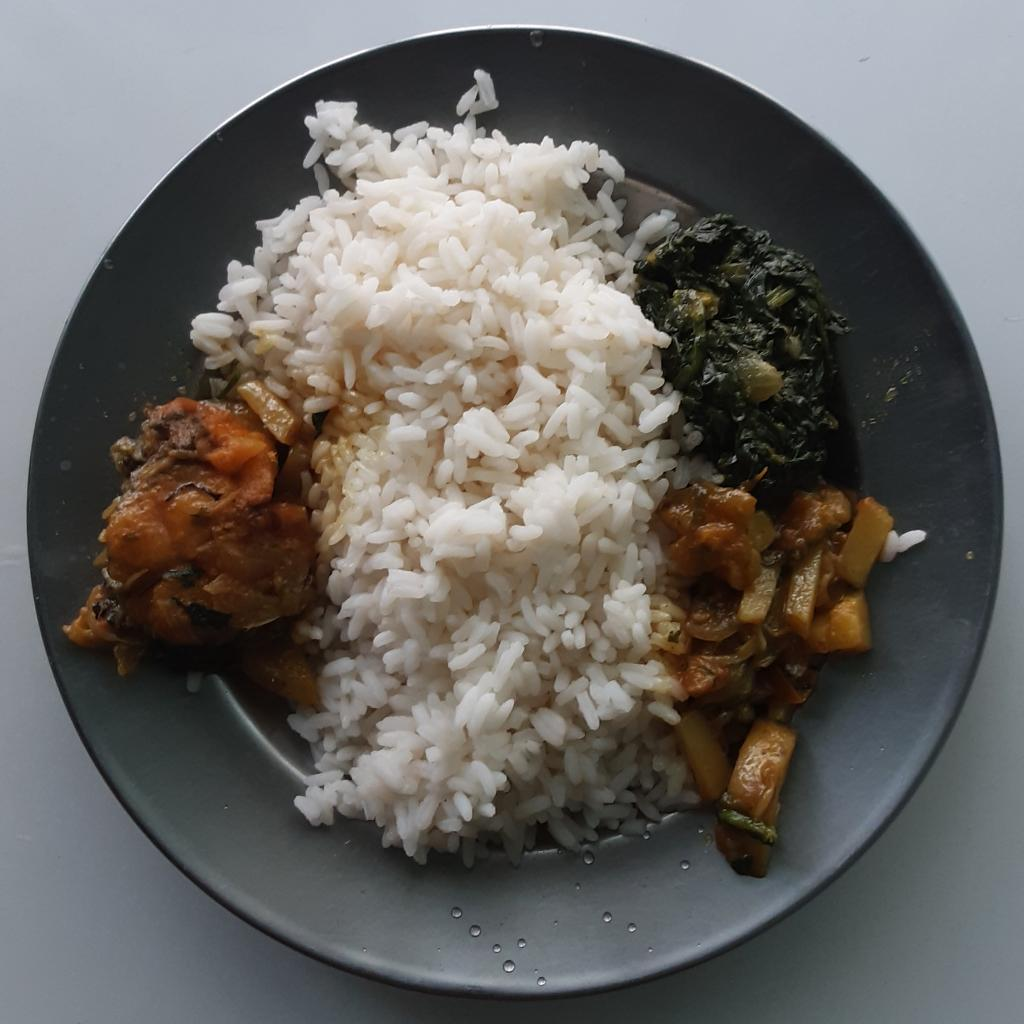fish: (59, 359, 325, 708)
potato: (662, 480, 896, 883)
rice: (189, 69, 727, 868)
shak: (641, 205, 849, 509)
